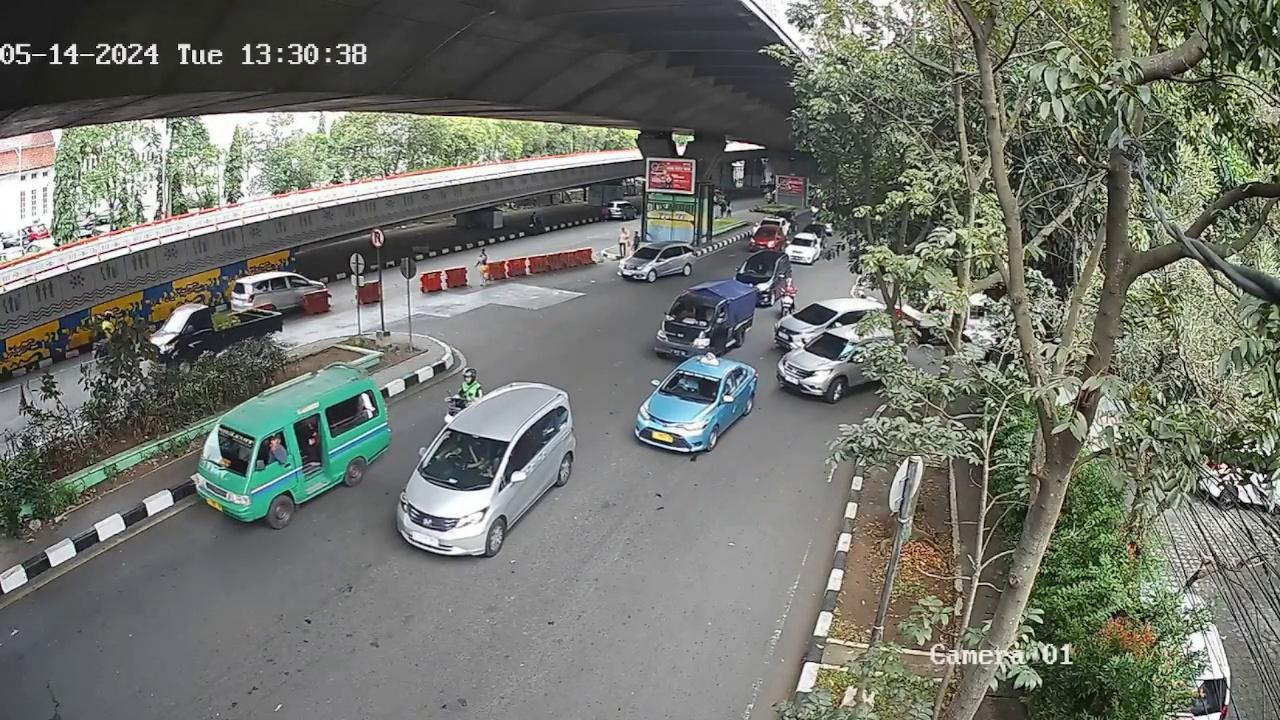pakai: (447, 438, 489, 470)
windshield: (423, 427, 506, 486), (197, 426, 261, 474), (660, 372, 720, 406), (668, 297, 722, 325)
